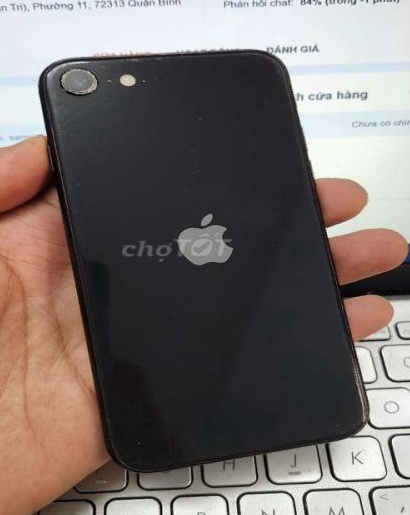scratch: (31, 45, 371, 471), (120, 50, 292, 89), (338, 335, 371, 441), (59, 63, 107, 100)
